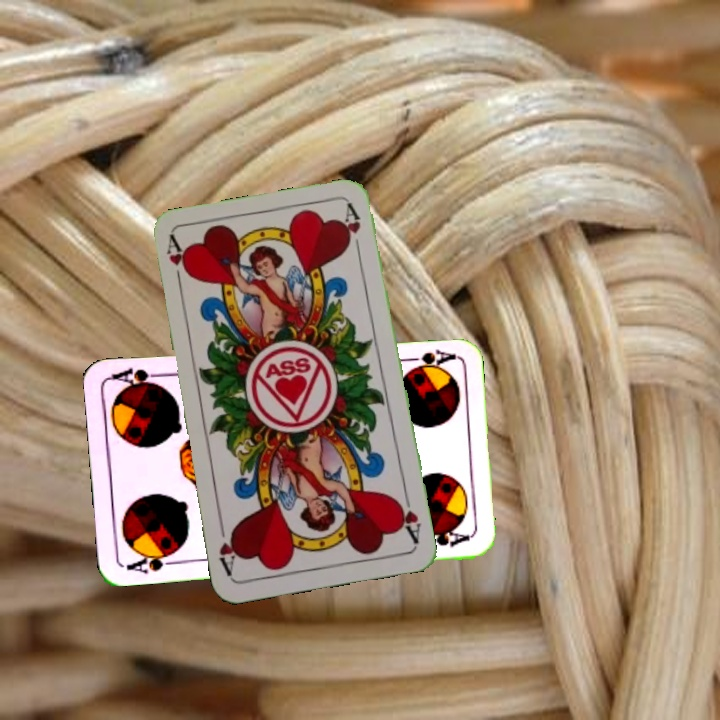HA: (392, 487, 424, 546), (162, 234, 191, 293)
SA: (122, 546, 181, 576), (397, 345, 456, 369)
